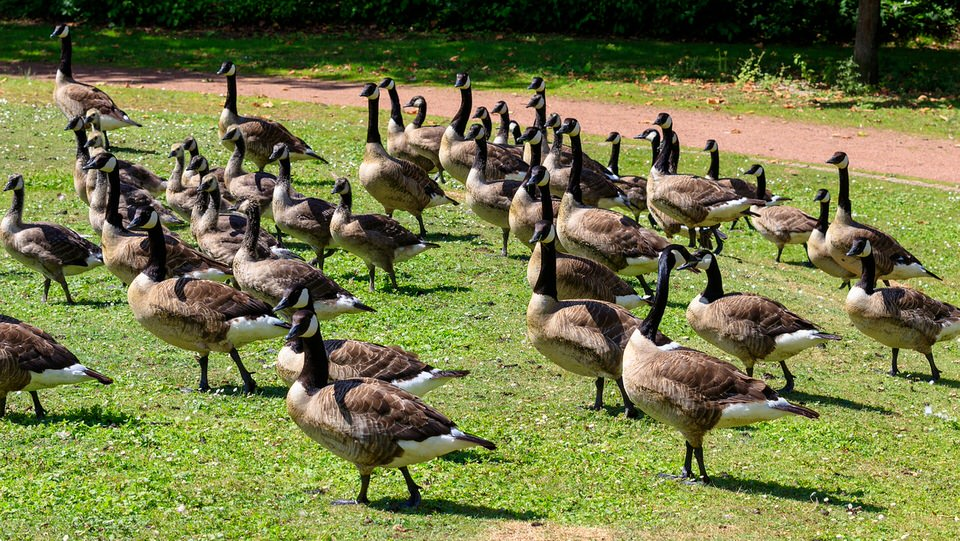goose: (282, 310, 505, 507), (214, 62, 327, 176), (47, 24, 147, 148)
